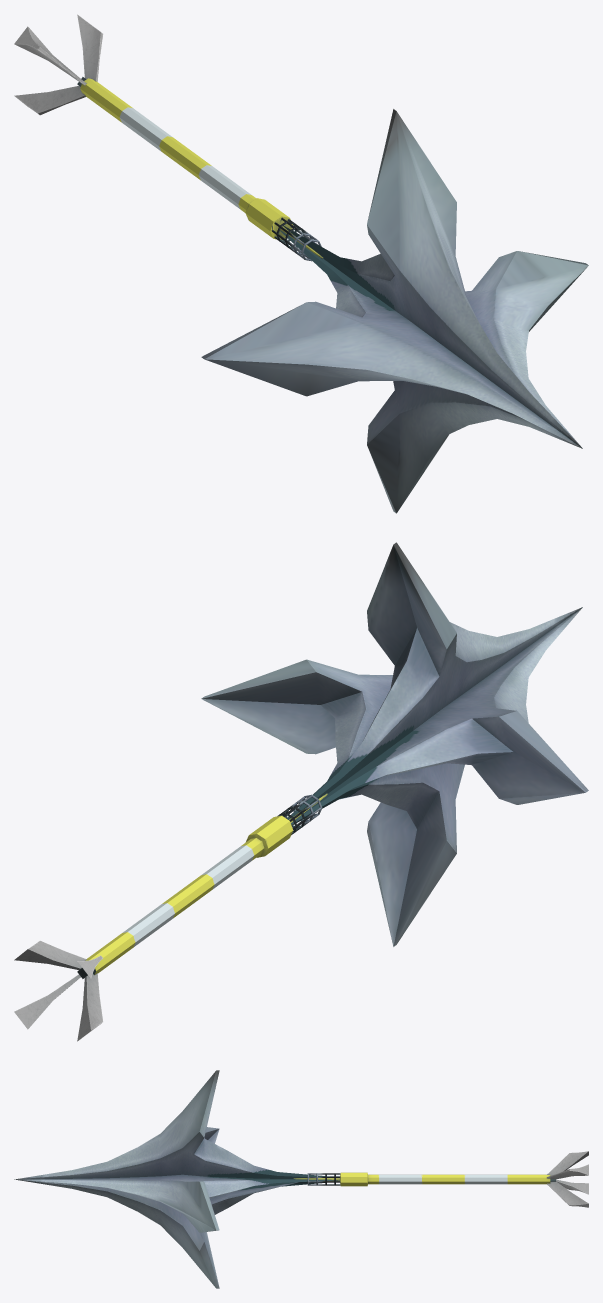
File: Arrow_M.fbx
The picture shows the model from 3 angles, top to bottom: view 1: azimuth 30°, elevation 25°; view 2: azimuth 150°, elevation 25°; view 3: azimuth 270°, elevation 25°; orthographic projection. The views are drawn at different scales.
Parts seen in each view (by area): view 1: Arrow_M; view 2: Arrow_M; view 3: Arrow_M.
Part boxes in pixels (<box>): Arrow_M: <box>14,14,588,513</box>; Arrow_M: <box>14,542,588,1041</box>; Arrow_M: <box>14,1070,588,1288</box>.
Size of the model in its own units: 268 by 268 by 640.
1 material, 1 textured.
